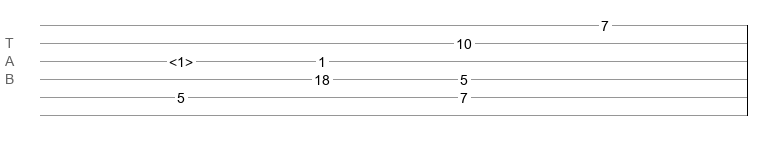1: (318, 54, 326, 64)
10: (456, 36, 472, 46)
18: (314, 72, 330, 82)
5: (177, 90, 185, 100), (460, 72, 468, 82)
7: (460, 90, 468, 100), (601, 18, 609, 28)
harmonic: (169, 54, 193, 64)
